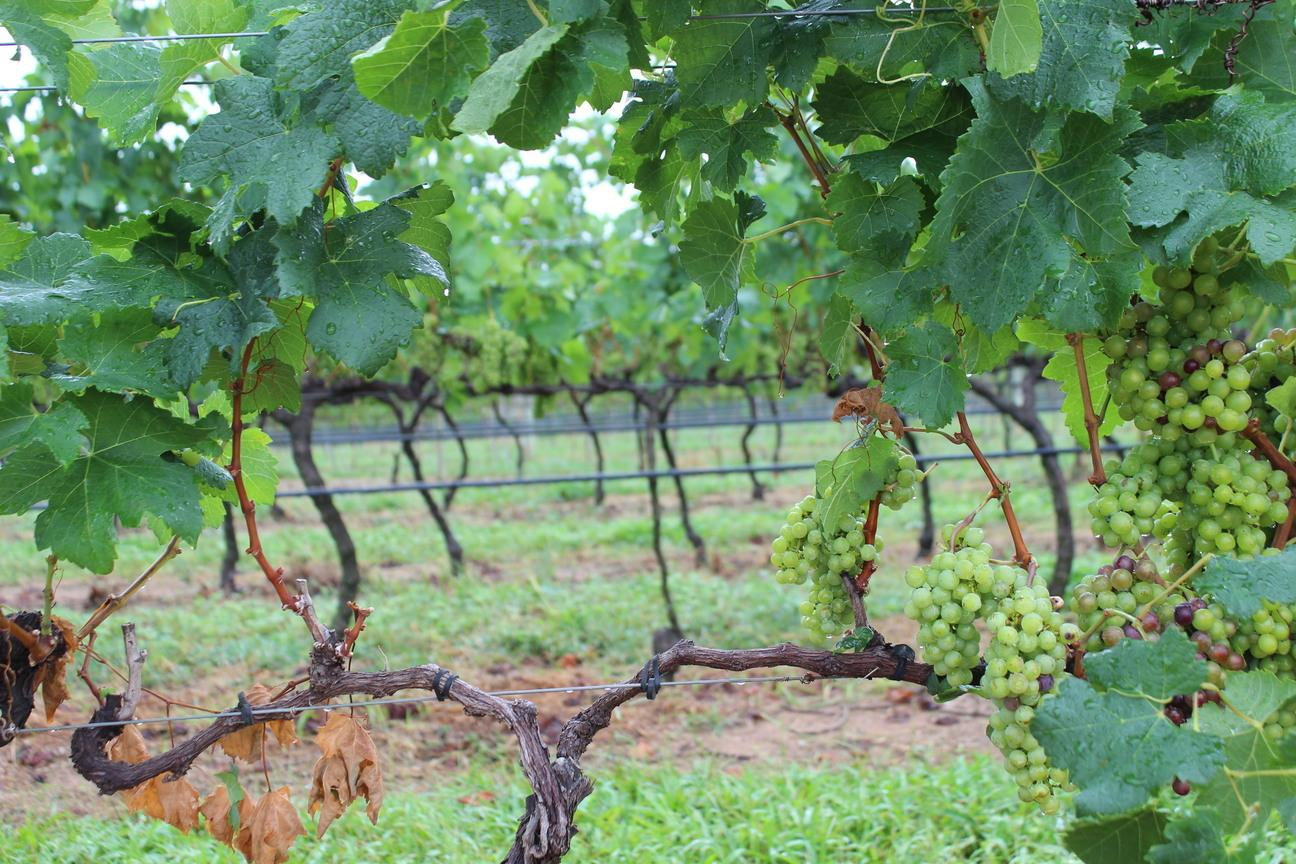leaf: (922, 79, 1139, 329), (0, 390, 211, 572), (275, 203, 446, 373), (1129, 94, 1295, 264), (1030, 677, 1221, 811), (276, 1, 418, 175), (178, 75, 338, 225), (155, 230, 276, 386), (487, 21, 629, 148), (986, 0, 1134, 118), (1194, 670, 1295, 831), (351, 10, 487, 117), (452, 25, 567, 133), (811, 67, 971, 143), (276, 0, 411, 90), (311, 68, 419, 176), (45, 307, 176, 395), (679, 198, 751, 349), (672, 0, 772, 106), (826, 171, 922, 268), (69, 43, 161, 143), (1084, 627, 1207, 700), (884, 321, 967, 426), (1015, 318, 1085, 440), (677, 106, 777, 191), (0, 233, 88, 325), (1041, 249, 1142, 329), (1192, 546, 1295, 619), (815, 434, 897, 525), (0, 379, 85, 464), (840, 256, 933, 333), (766, 1, 840, 90), (0, 0, 72, 86), (450, 0, 541, 62), (1065, 808, 1166, 862), (388, 179, 453, 261), (155, 36, 230, 101), (1147, 807, 1229, 862), (985, 0, 1041, 76), (241, 426, 278, 506), (818, 291, 853, 373), (168, 0, 247, 32), (1082, 337, 1110, 410), (643, 0, 691, 40), (0, 214, 35, 265), (1264, 378, 1295, 415), (412, 275, 444, 295), (467, 83, 474, 99), (460, 102, 467, 114), (454, 117, 460, 126), (104, 297, 110, 303), (998, 5, 1002, 13), (481, 71, 487, 76), (986, 55, 989, 62), (263, 399, 267, 400)
